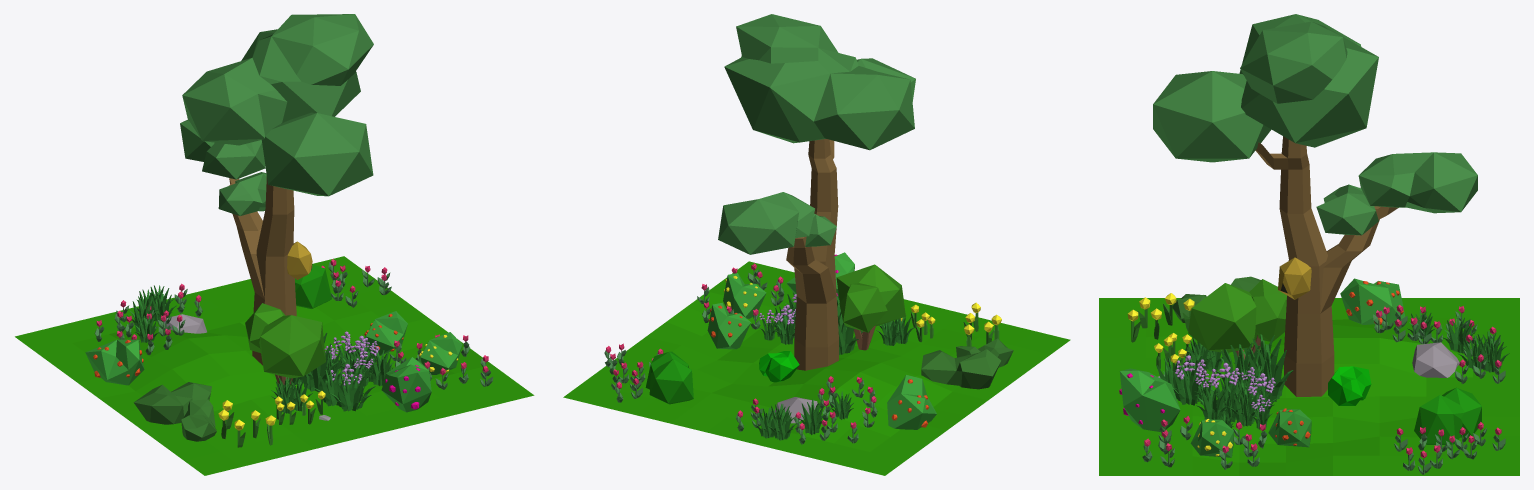
File: MEADOW_FIELD02.fbx
3 views of the same model, side by side, from view 1: azimuth 30°, elevation 25°; view 2: azimuth 150°, elevation 25°; view 3: azimuth 270°, elevation 25° (orthographic). The views are drawn at different scales.
Visible parts, largest first — view 1: Grid, Icosphere.010, Cylinder.005, Icosphere.024, Icosphere.026, Plane.063, Plane.079, Cylinder.095, Plane.058, Icosphere.004, Icosphere.012, Plane.071 (+4 smaller); view 2: Grid, Icosphere.010, Cylinder.005, Icosphere.024, Icosphere.026, Icosphere.012, Plane.079, Plane.071, Plane.058, Cylinder.084, Icosphere.027, Cylinder.103 (+6 smaller); view 3: Grid, Icosphere.010, Cylinder.005, Icosphere.024, Plane.063, Icosphere.012, Cylinder.082, Plane.079, Icosphere.027, Icosphere.009, Plane.058, Cylinder.095 (+9 smaller).
Boxes of the visible parts, <box> form: Grid: <box>15,256,534,475</box>; Icosphere.010: <box>180,14,373,215</box>; Cylinder.005: <box>229,176,296,365</box>; Icosphere.024: <box>245,303,325,378</box>; Icosphere.026: <box>133,382,211,424</box>; Plane.063: <box>381,357,431,412</box>; Plane.079: <box>85,339,144,385</box>; Cylinder.095: <box>314,365,375,411</box>; Plane.058: <box>418,332,462,374</box>; Icosphere.004: <box>181,399,216,441</box>; Icosphere.012: <box>295,264,331,308</box>; Plane.071: <box>364,311,407,357</box>; Grid: <box>563,261,1070,475</box>; Icosphere.010: <box>718,14,915,254</box>; Cylinder.005: <box>786,139,838,370</box>; Icosphere.024: <box>836,264,905,332</box>; Icosphere.026: <box>921,349,1001,389</box>; Icosphere.012: <box>645,351,693,404</box>; Plane.079: <box>887,375,936,429</box>; Plane.071: <box>707,302,750,349</box>; Plane.058: <box>723,273,766,318</box>; Cylinder.084: <box>753,403,797,440</box>; Icosphere.027: <box>759,351,799,382</box>; Cylinder.103: <box>876,315,914,345</box>; Grid: <box>1099,298,1519,475</box>; Icosphere.010: <box>1153,14,1477,235</box>; Cylinder.005: <box>1255,136,1398,396</box>; Icosphere.024: <box>1188,279,1286,352</box>; Plane.063: <box>1119,368,1180,431</box>; Icosphere.012: <box>1414,387,1481,444</box>; Cylinder.082: <box>1212,334,1293,401</box>; Plane.079: <box>1340,278,1405,324</box>; Icosphere.027: <box>1328,366,1371,405</box>; Icosphere.009: <box>1412,342,1459,377</box>; Plane.058: <box>1190,419,1233,457</box>; Cylinder.095: <box>1157,353,1209,405</box>.
Bounding box in the file's own units: 1005 × 1033 × 1000.
